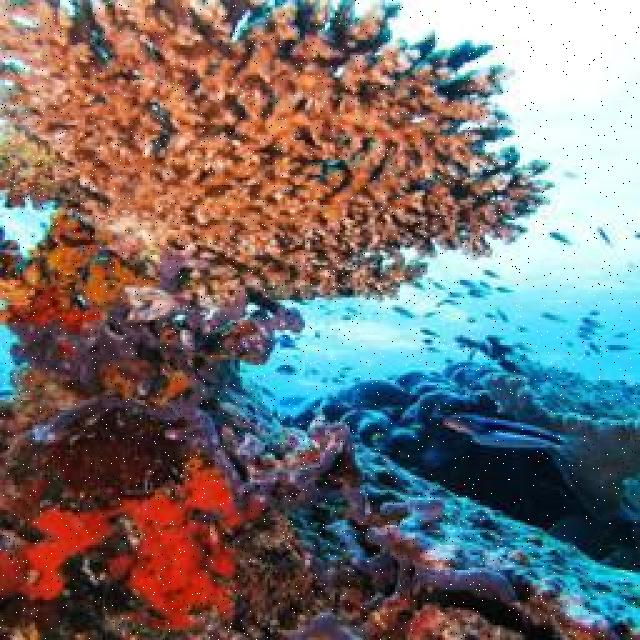fish: (445, 414, 587, 461)
reefs: (1, 0, 555, 306), (0, 466, 269, 628), (0, 218, 156, 337)
